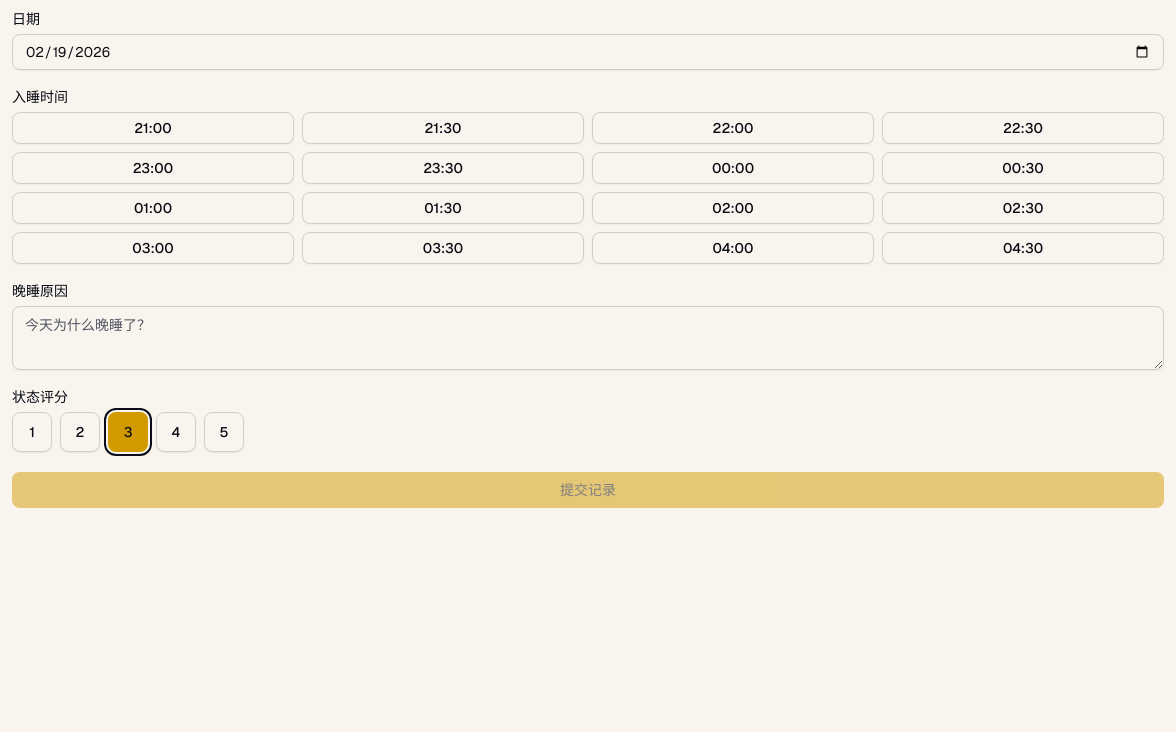
Scenario: RecordForm interactions › submit button is enabled after filling time and reason
Click the button "23:00" at [153, 168], box x1=12 y1=152 x2=294 y2=184
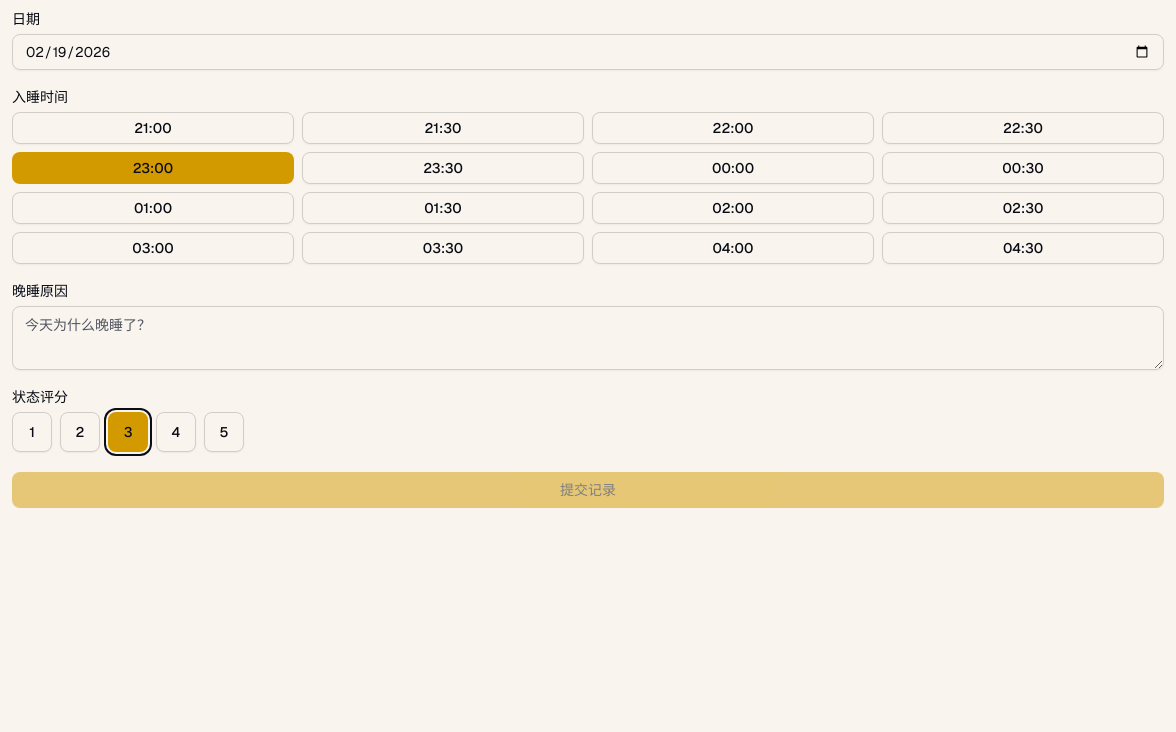
Type "加班" into the text box with placeholder "今天为什么晚睡了？" at [588, 338], box x1=12 y1=306 x2=1164 y2=370
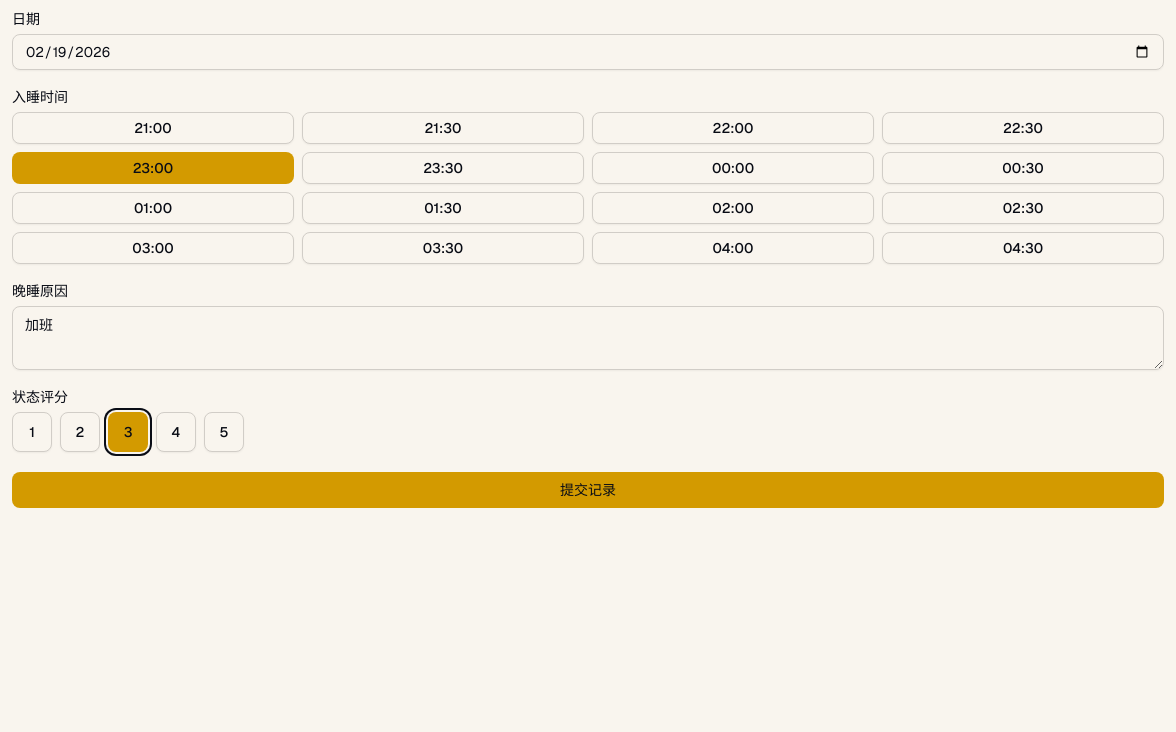
Check: the button "提交记录" is enabled, box x1=12 y1=472 x2=1164 y2=508
